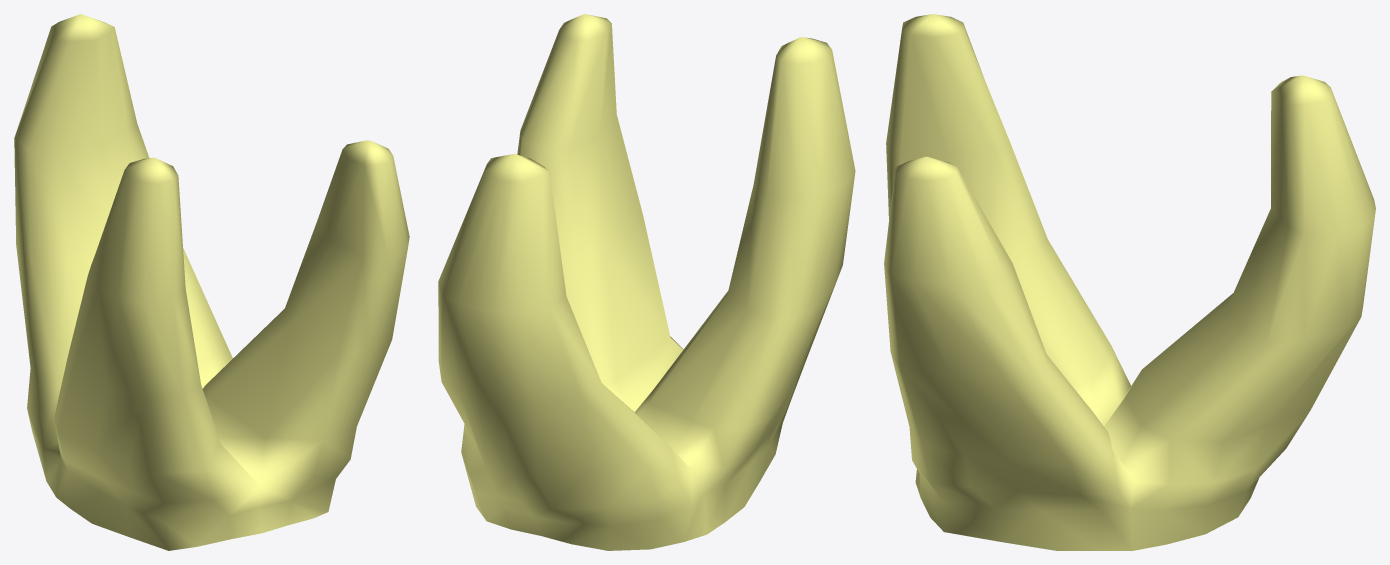
The model's file is D65R_Raiz.obj.
3 views of the same model, side by side, from view 1: azimuth 30°, elevation 25°; view 2: azimuth 150°, elevation 25°; view 3: azimuth 270°, elevation 25° (orthographic). The views are drawn at different scales.
Parts seen in each view (by area): view 1: D65R_Raiz; view 2: D65R_Raiz; view 3: D65R_Raiz.
Boxes of the visible parts, bbox=[...] form: D65R_Raiz: bbox=[14, 14, 409, 550]; D65R_Raiz: bbox=[438, 14, 855, 550]; D65R_Raiz: bbox=[884, 14, 1375, 550].
Bounding box in the file's own units: 9.36 × 12.08 × 12.47.
